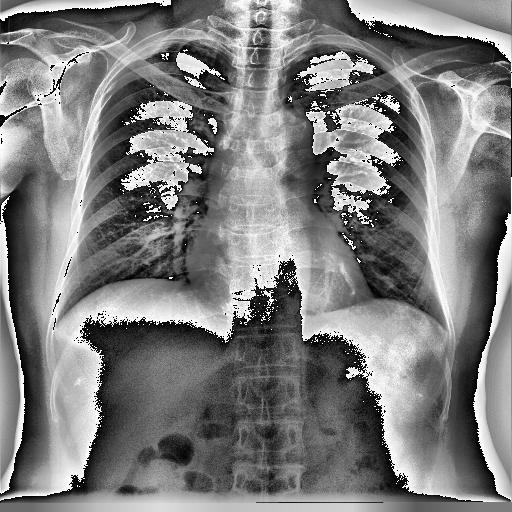0- Aortic enlargement: (258, 114, 314, 152)
11- Pleural thickening: (130, 36, 176, 62), (124, 38, 172, 61)
